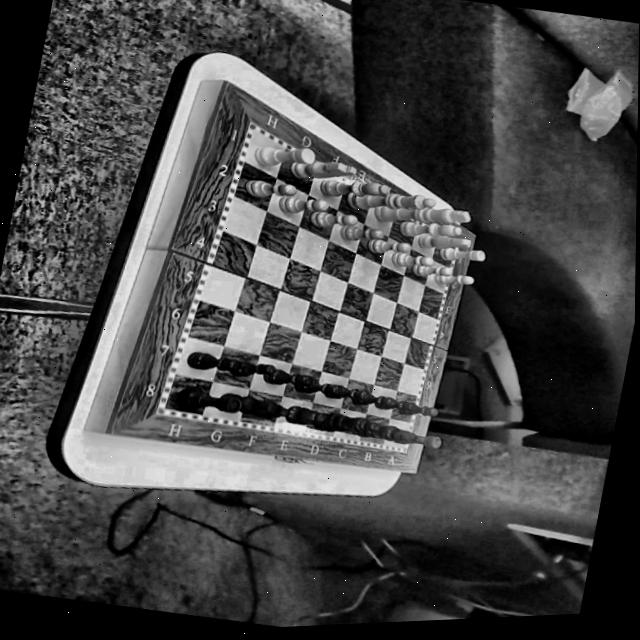chessboard: (165, 131, 453, 448)
